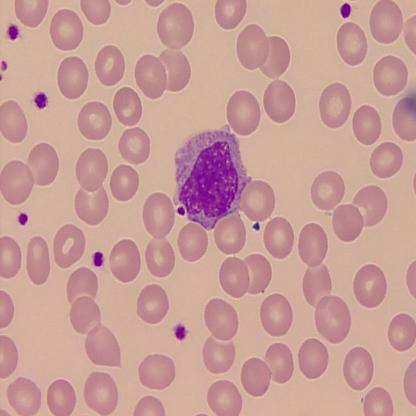Monocyte: (172, 122, 254, 233)
